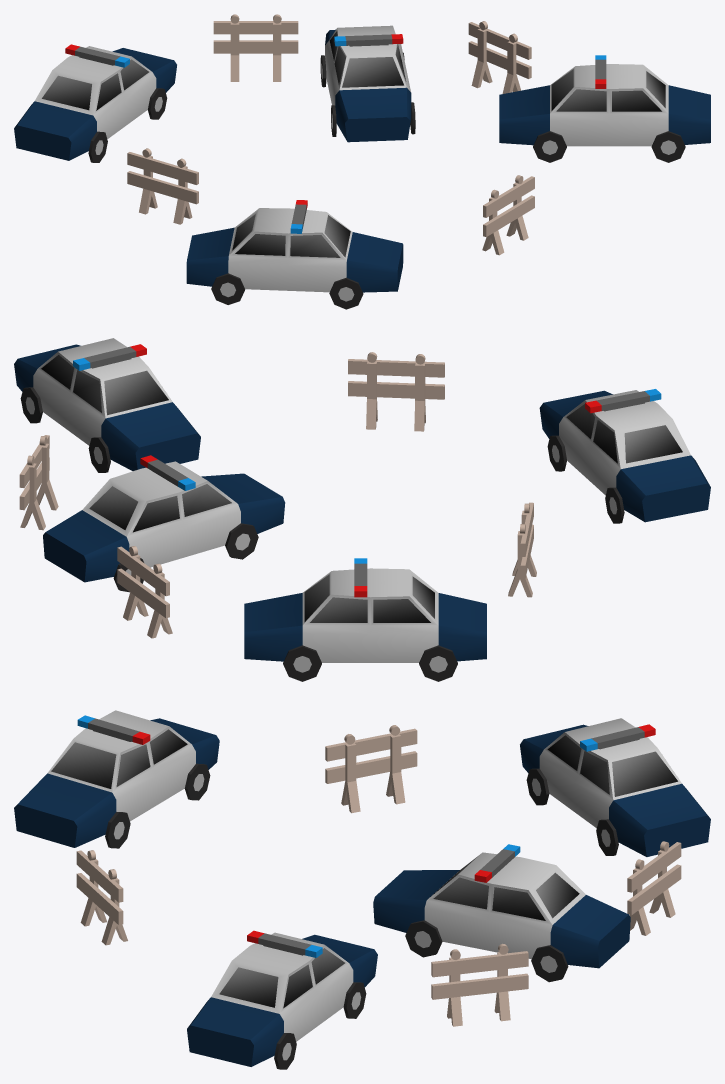
File: Zone_police.fbx
The picture shows the model from 3 angles, top to bottom: view 1: azimuth 30°, elevation 25°; view 2: azimuth 150°, elevation 25°; view 3: azimuth 270°, elevation 25°; orthographic projection. The views are drawn at different scales.
Parts seen in each view (by area): view 1: Voiture_police001; view 2: Voiture_police001; view 3: Voiture_police001.
Part boxes in pixels (box(x1,y1,x2,y2)): Voiture_police001: box(14, 14, 710, 309); Voiture_police001: box(14, 338, 710, 681); Voiture_police001: box(14, 710, 710, 1069).
Size of the model in its own units: 608 by 77.97 by 553.
